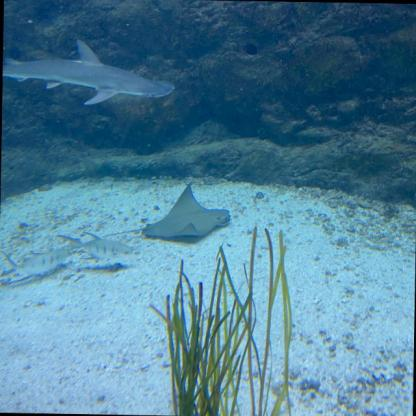fish: (2, 241, 69, 284), (72, 233, 134, 267)
shark: (2, 38, 170, 106)
stingray: (139, 182, 233, 248)
